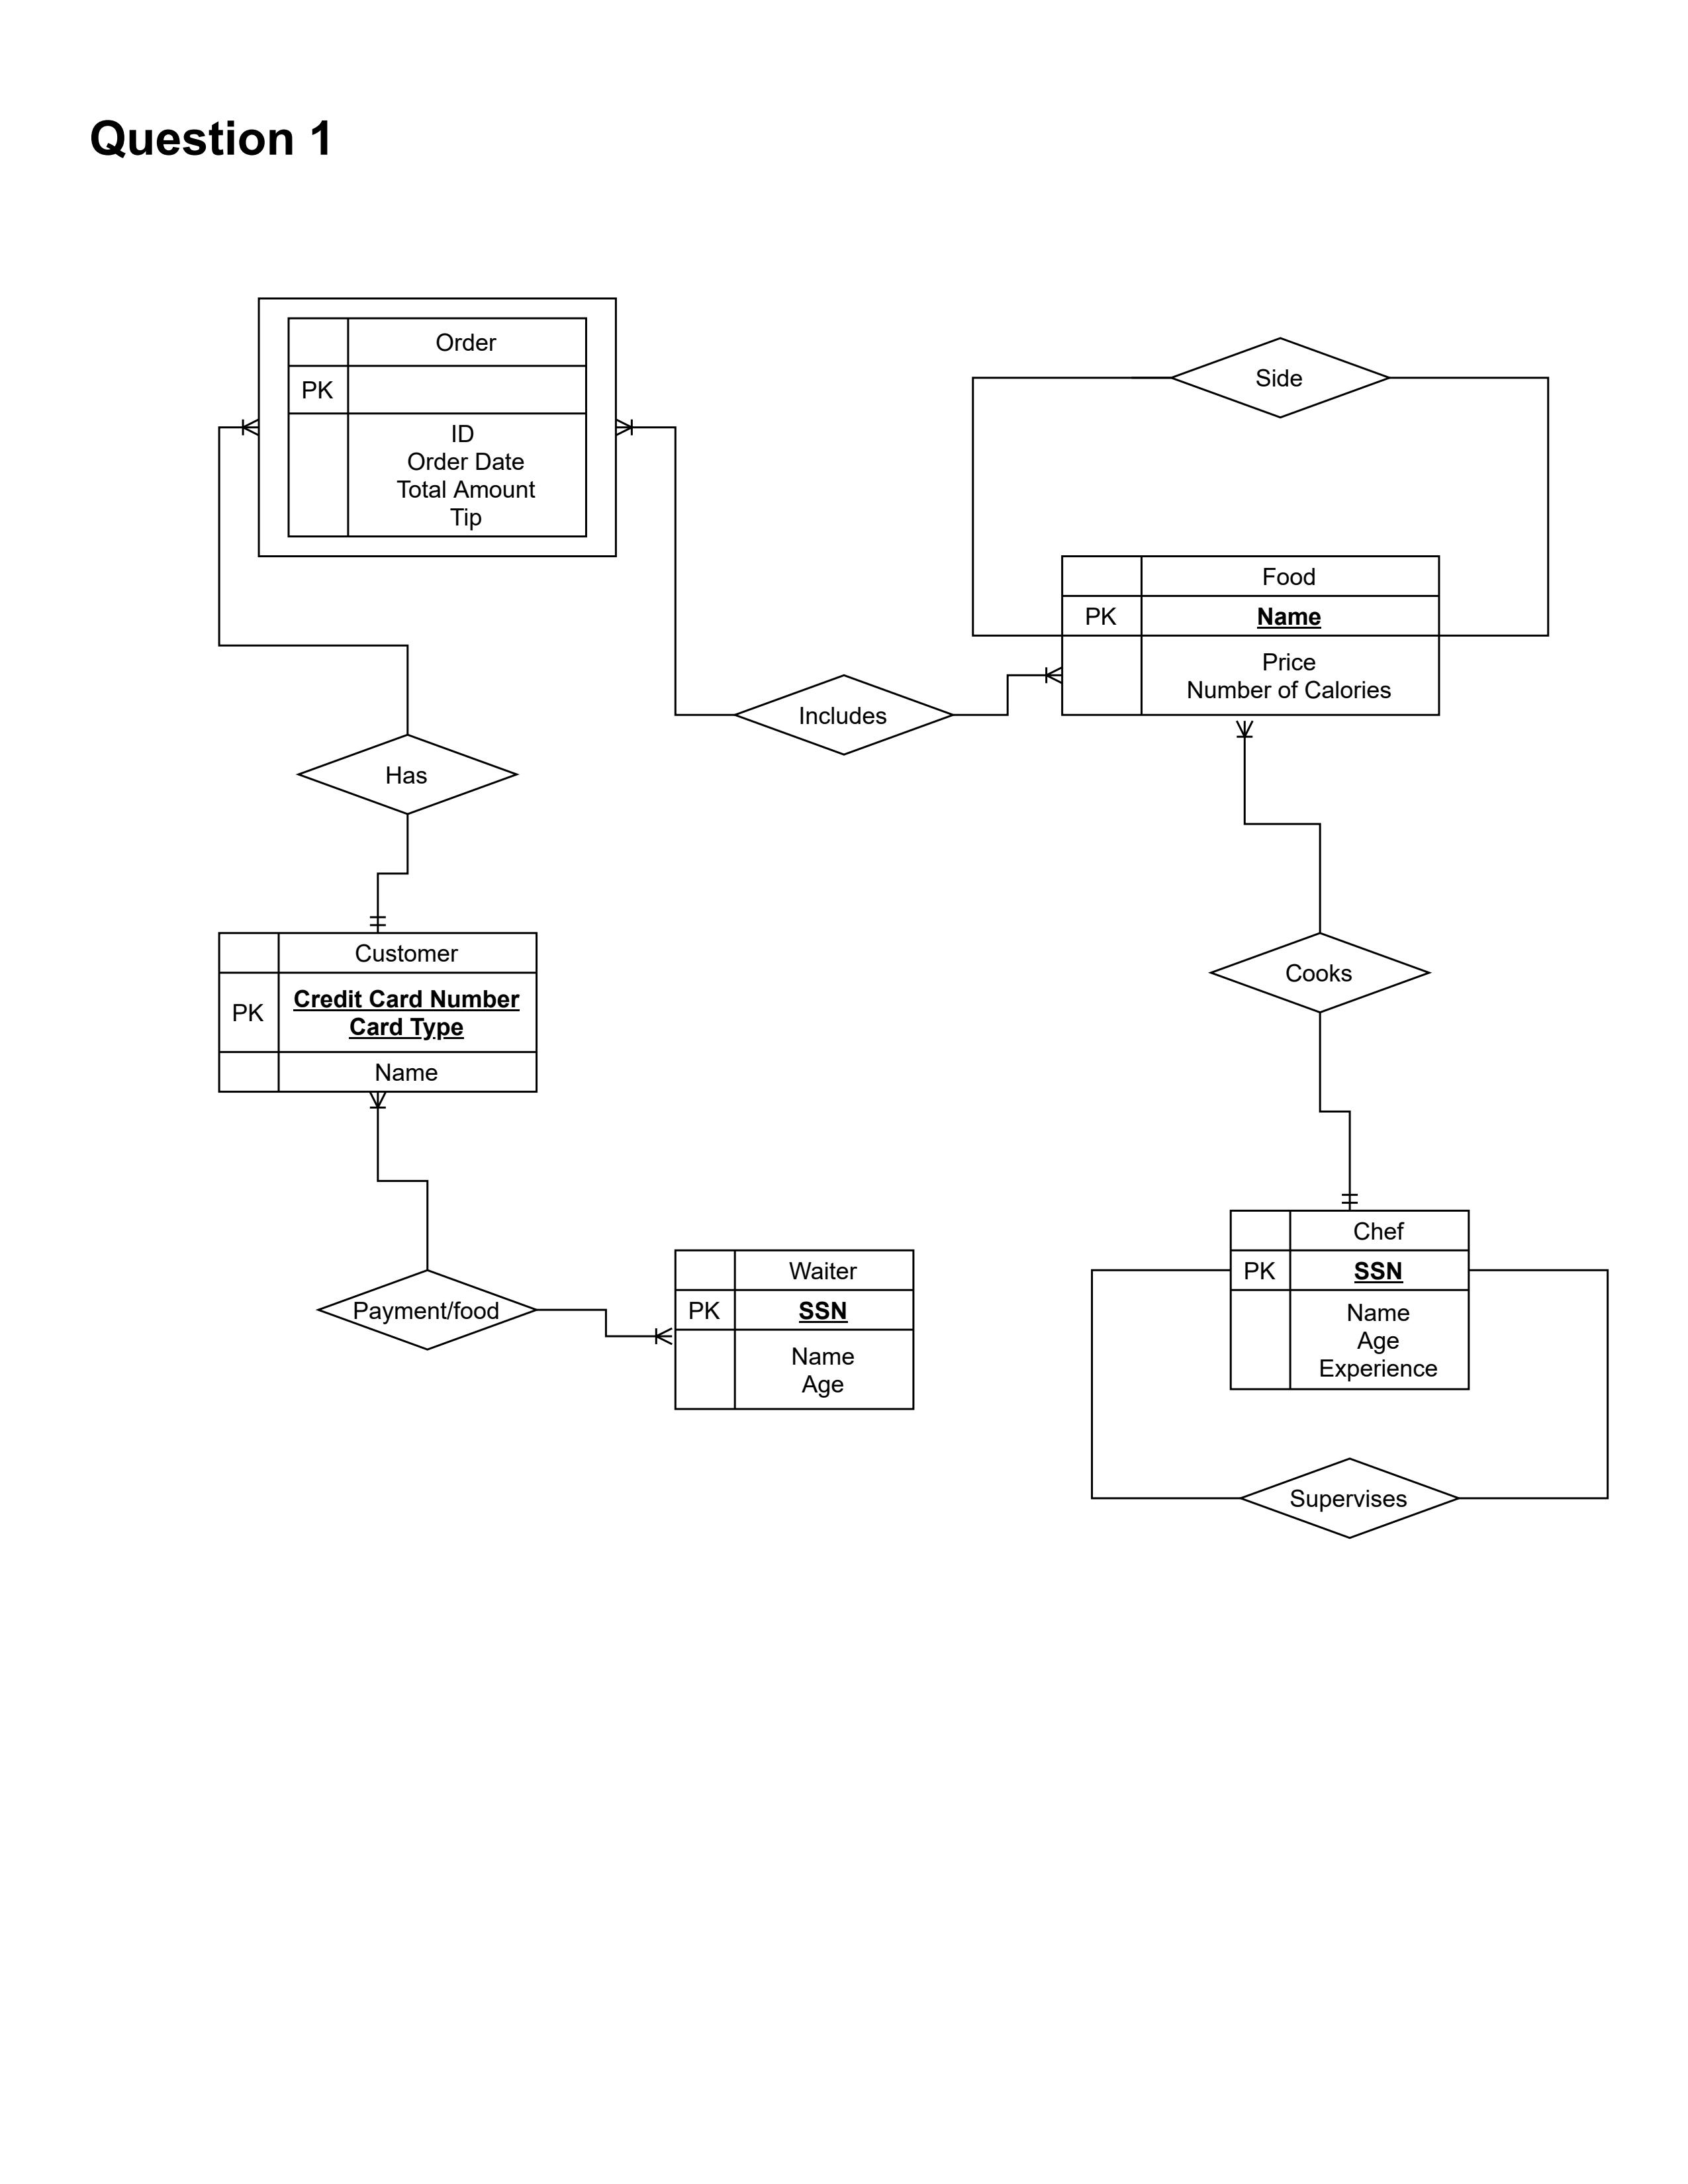Entity: (285, 316, 590, 541), (1060, 551, 1442, 720), (216, 931, 541, 1094), (1229, 1207, 1473, 1393), (672, 1246, 918, 1415)
Relationship: (1239, 1455, 1457, 1539), (736, 674, 952, 757), (1209, 932, 1431, 1012), (1172, 337, 1388, 418), (317, 1271, 535, 1351), (296, 736, 518, 814)
